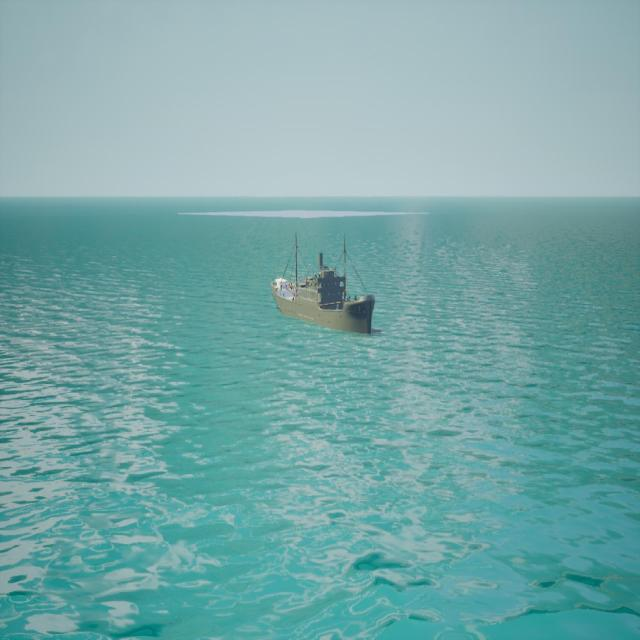fishing ship: (272, 230, 377, 339)
